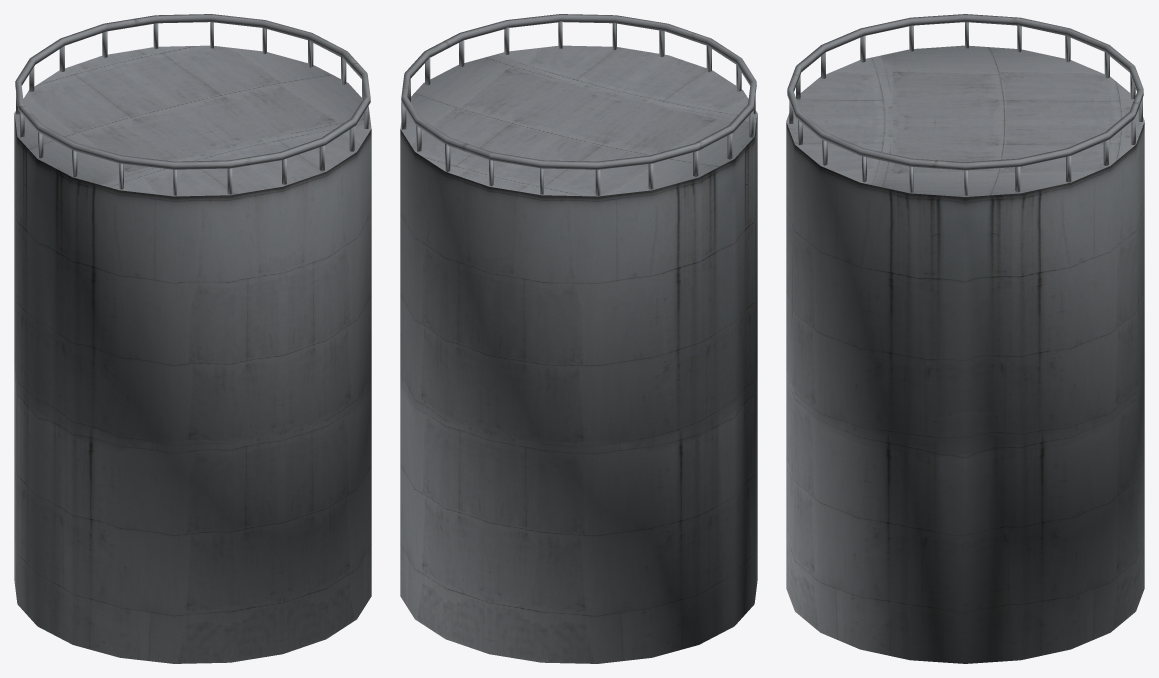
The model's file is industrial12.obj.
The picture shows the model from 3 angles, left to right: view 1: azimuth 30°, elevation 25°; view 2: azimuth 150°, elevation 25°; view 3: azimuth 270°, elevation 25°; orthographic projection.
Visible parts, largest first — view 1: industrial12; view 2: industrial12; view 3: industrial12.
Boxes of the visible parts, <box> form: industrial12: <box>14,14,371,663</box>; industrial12: <box>400,14,757,663</box>; industrial12: <box>786,14,1144,663</box>.
Size of the model in its own units: 319 by 490 by 319.
Materials: 1 (1 with a texture image).
